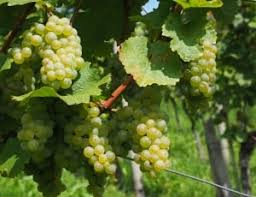grapes: (16, 18, 81, 88), (124, 95, 174, 177), (66, 109, 118, 185), (183, 23, 223, 114), (23, 102, 53, 151)
